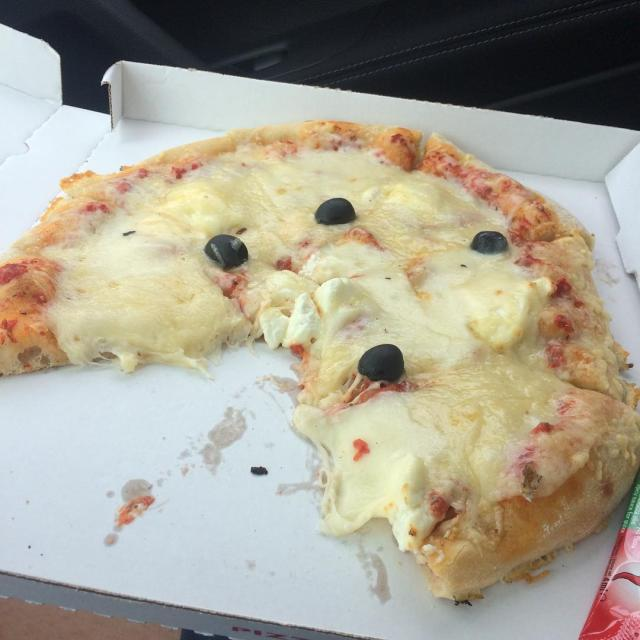black_olives: (351, 338, 413, 387), (313, 196, 364, 232), (204, 229, 245, 269), (465, 225, 513, 258)
pizza: (0, 120, 640, 607)
